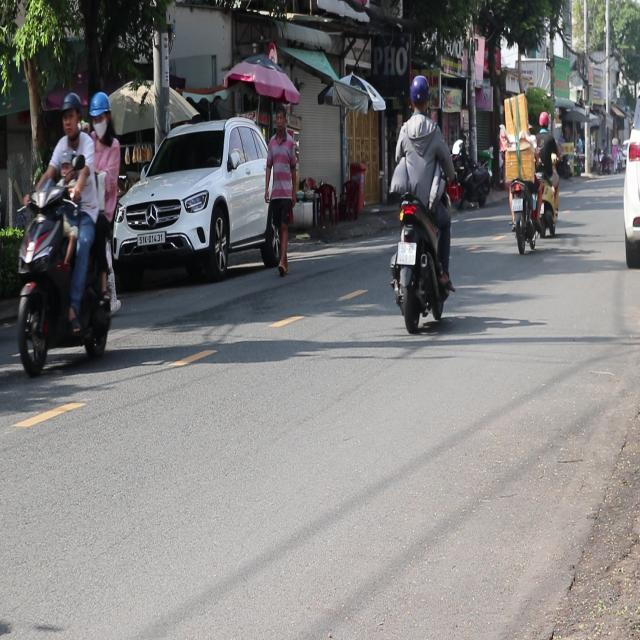helmet: (87, 90, 112, 141), (59, 90, 82, 140), (408, 74, 430, 114)
licenseplate: (13, 86, 124, 376), (387, 72, 456, 330)
nohelmet: (396, 241, 416, 264)
